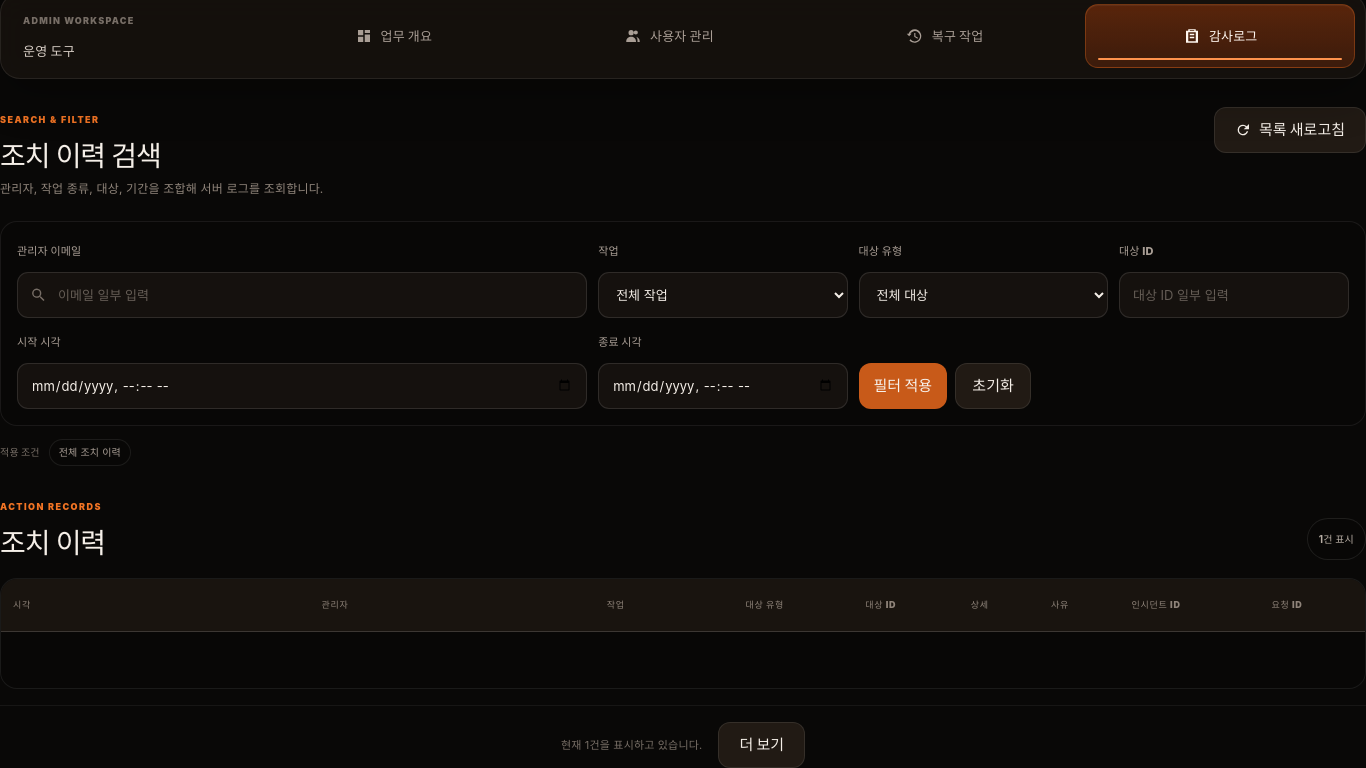
Test: AdminAuditLogPage › appends the next server page without changing the applied contract
The width and height of the screenshot is (1366, 768).
(page scrolled)
Step 1. Click the button "더 보기" → (762, 745), box left=718, top=722, right=805, bottom=767
(page scrolled)
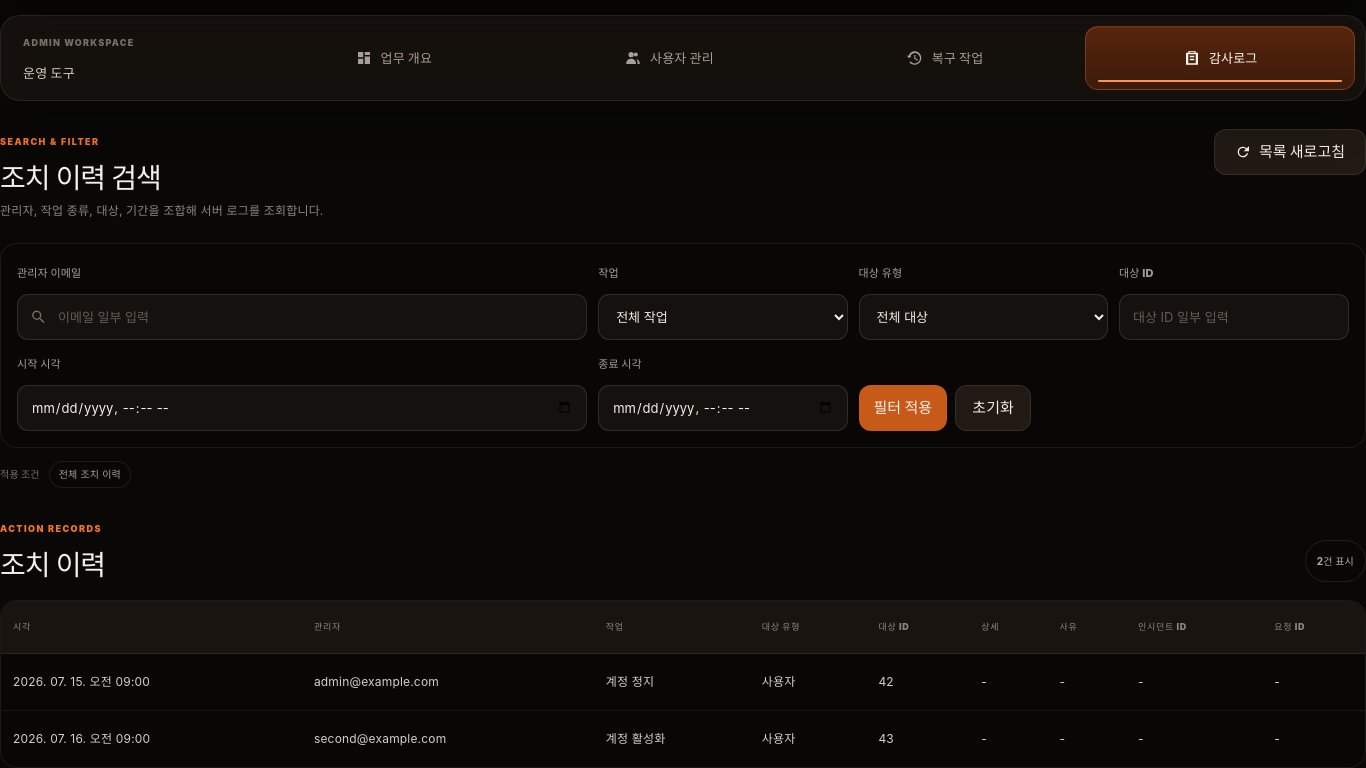
Expected: the text "second@example.com" is shown, left=302, top=711, right=594, bottom=767
